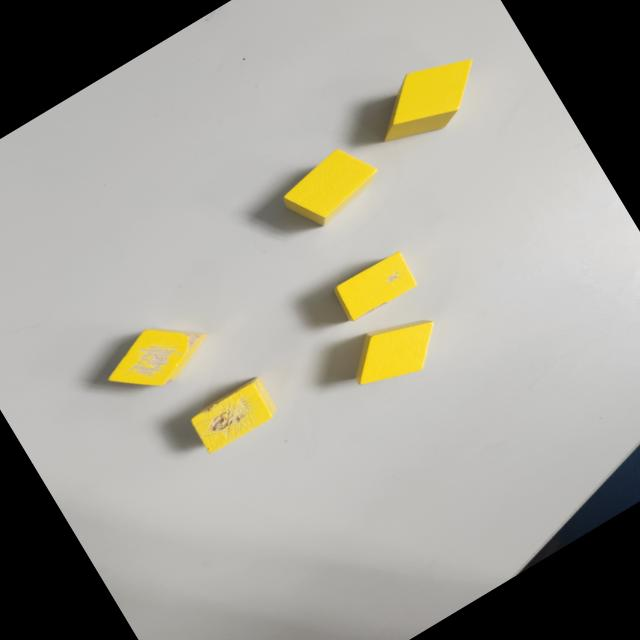broken: (93, 303, 218, 412), (186, 374, 282, 456), (331, 248, 422, 326)
yellow: (358, 38, 498, 160), (274, 136, 388, 238), (339, 303, 452, 402)
